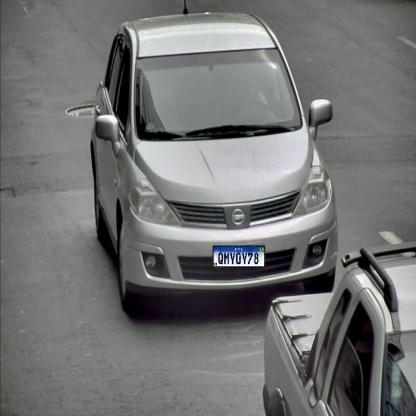PlacaM: (213, 245, 265, 268)
